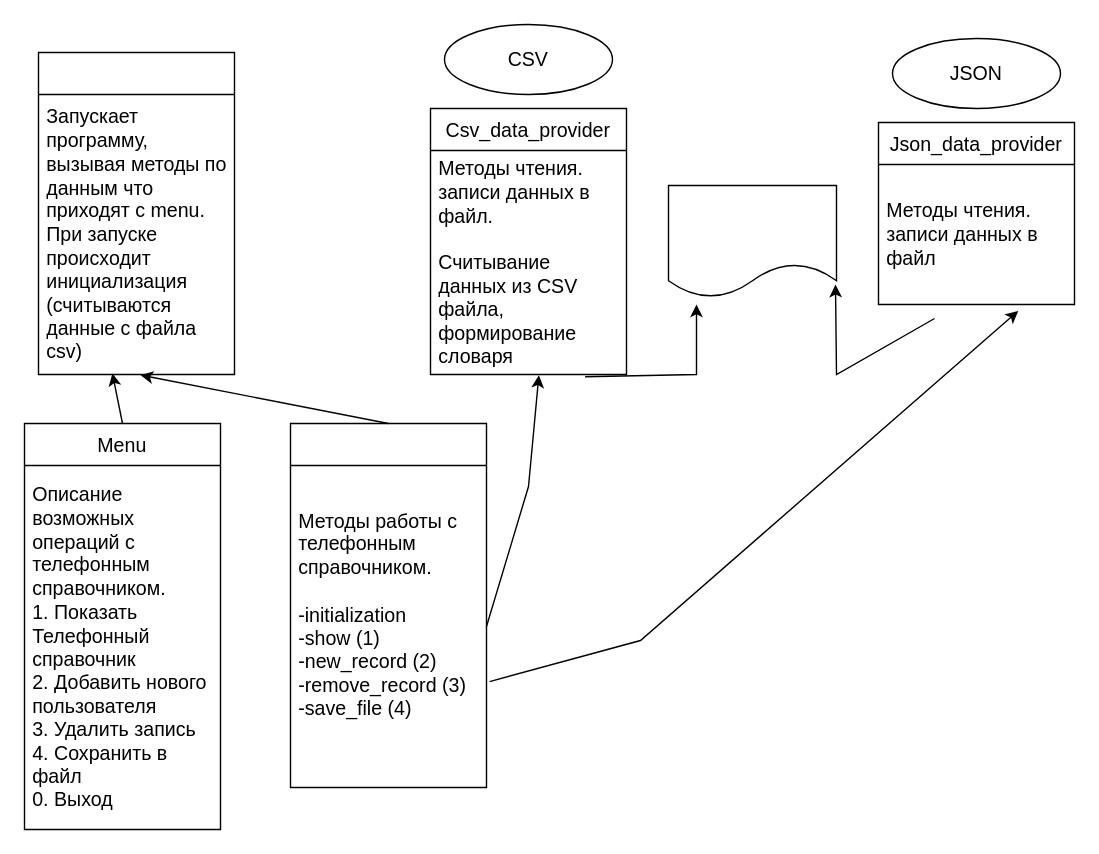
This 1099x854 diagram has some shape labels left out. The shapes that lost their labels are listed below. From the top down, each one's box as (x1, y1, x2, y2) in pixels, then its label:
(37, 51, 234, 374): Main
(667, 184, 836, 298): Данные с файла csv получаемые в виде словаря
(289, 422, 486, 788): Phonebook
